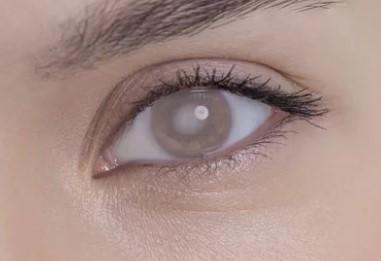eye: (149, 83, 234, 157)
